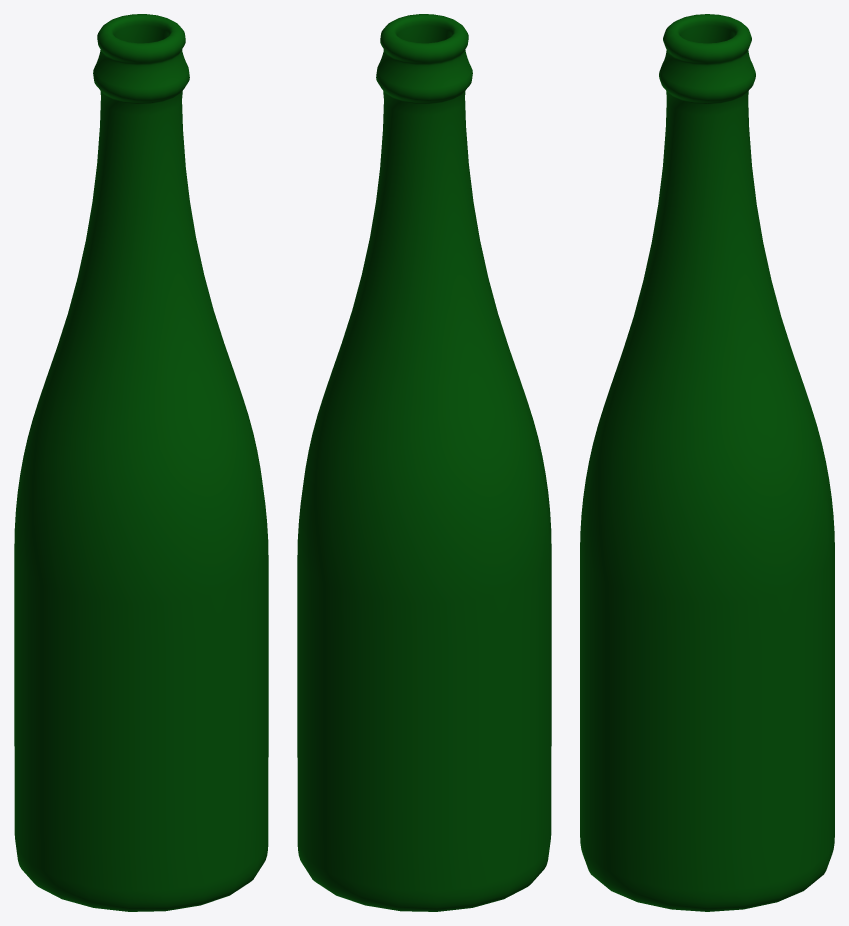
The model's file is BottleModel.fbx.
3 renders of one model, left to right at view 1: azimuth 30°, elevation 25°; view 2: azimuth 150°, elevation 25°; view 3: azimuth 270°, elevation 25°, orthographic.
Parts seen in each view (by area): view 1: Bottle; view 2: Bottle; view 3: Bottle.
Boxes of the visible parts, bbox=[...] form: Bottle: bbox=[14, 14, 268, 911]; Bottle: bbox=[297, 14, 551, 911]; Bottle: bbox=[580, 14, 834, 911].
Bounding box in the file's own units: 6.92 × 24.98 × 6.91.
Materials: 1 (1 with a texture image).
